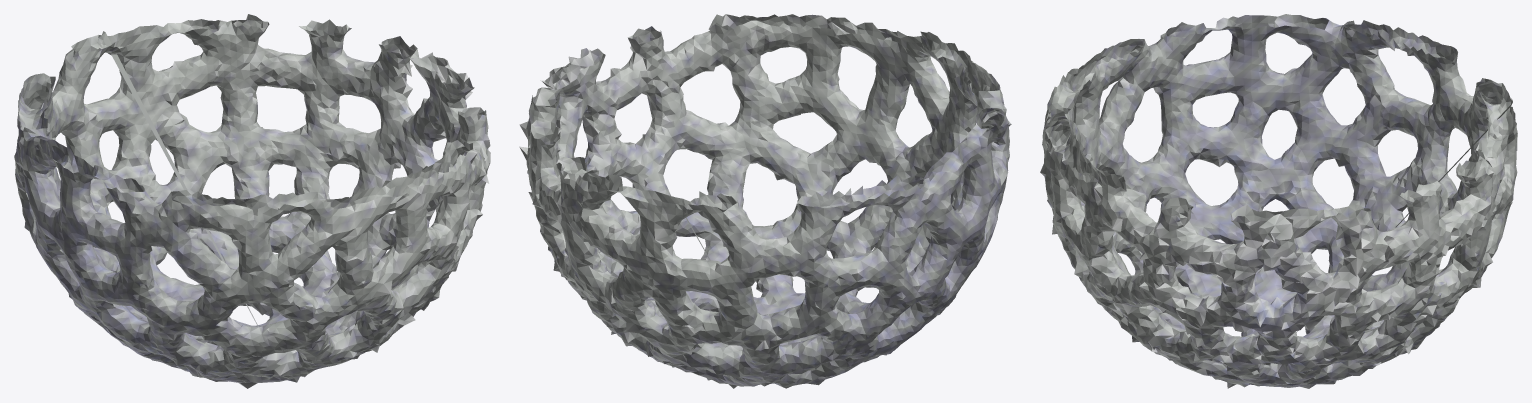
3 renders of one model, left to right at view 1: azimuth 30°, elevation 25°; view 2: azimuth 150°, elevation 25°; view 3: azimuth 270°, elevation 25°, orthographic.
Bounding box in the file's own units: 2.02 × 1.2 × 2.
